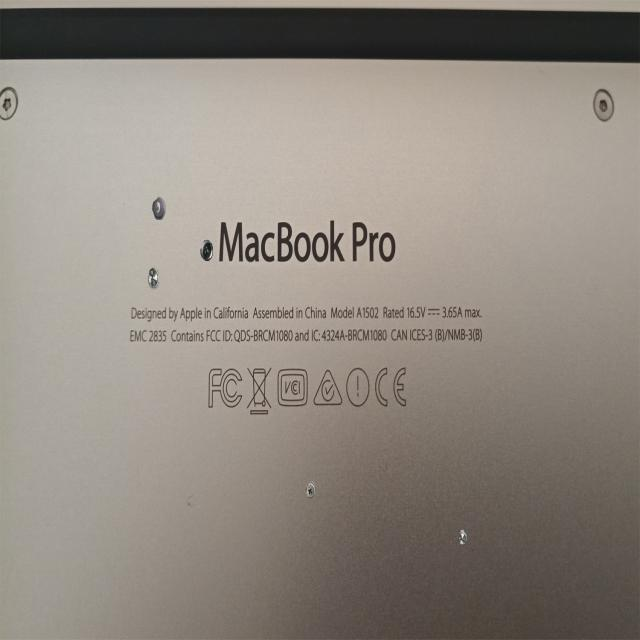lock: (200, 239, 213, 261), (147, 267, 160, 289), (305, 481, 316, 498), (457, 529, 467, 545)
missing_screw: (152, 197, 166, 220)
